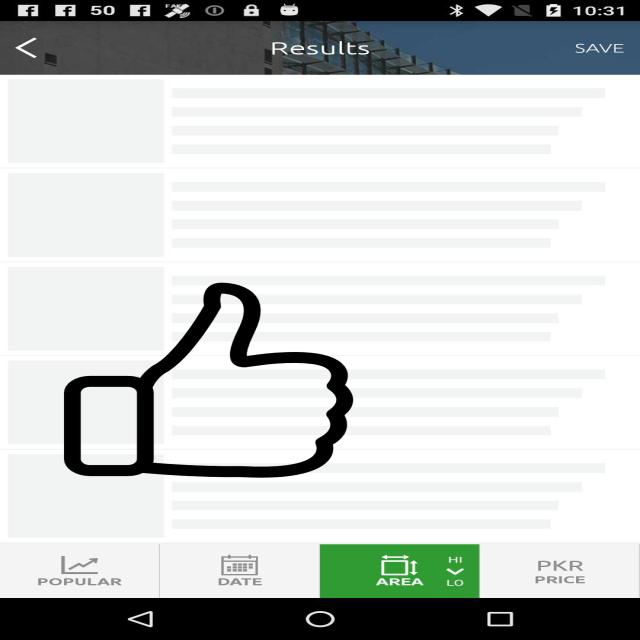privacy zuckering: (60, 282, 357, 478)
